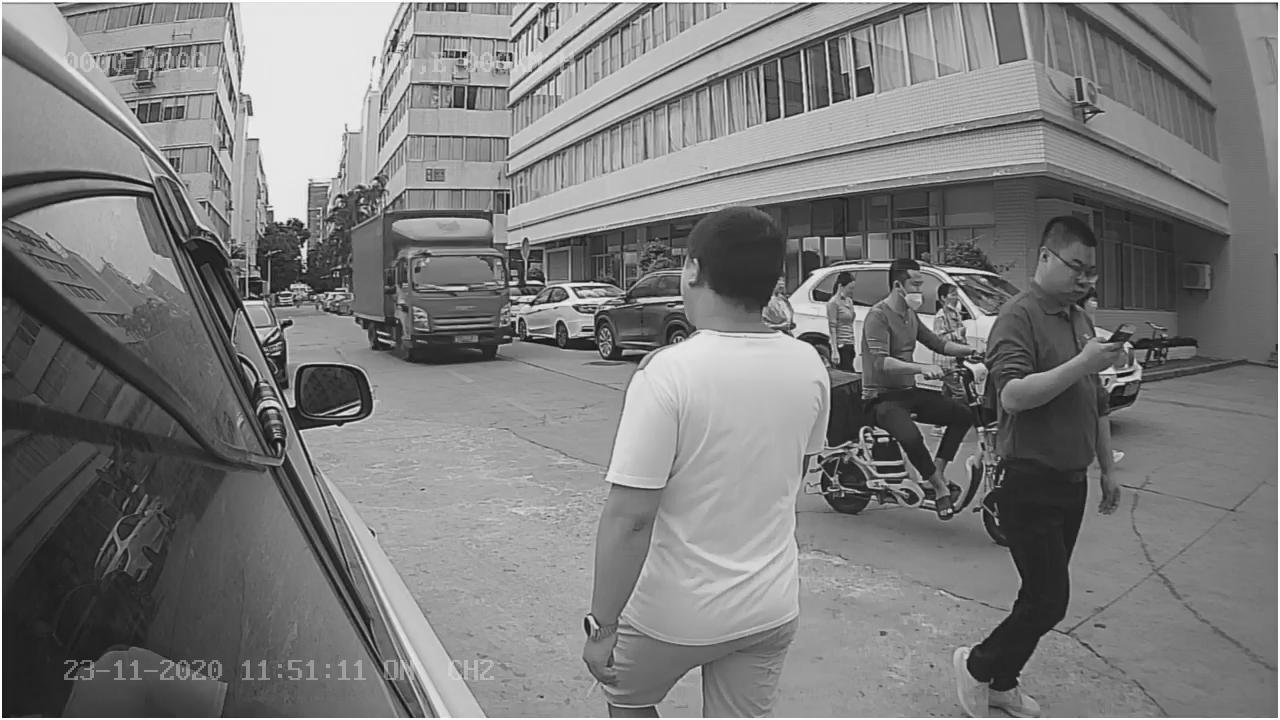person: (943, 207, 1140, 715)
